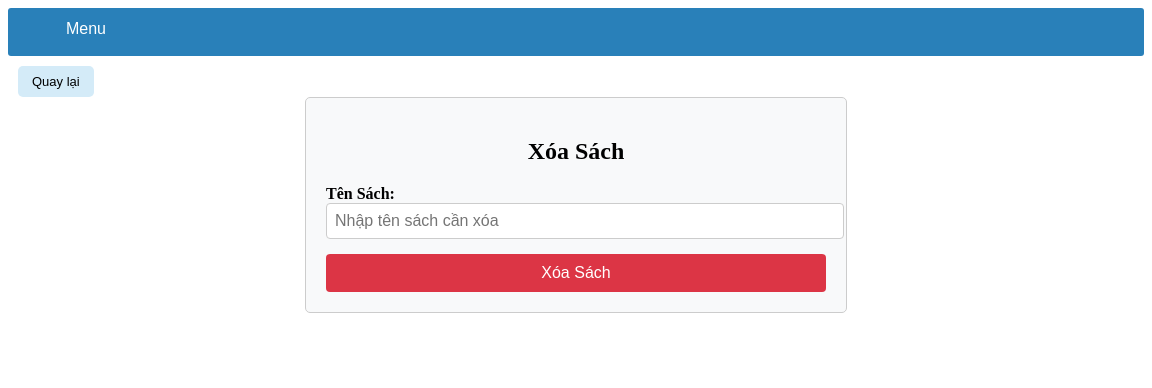
Test: Xóa Sách › TC_006 - Xóa sách không thành công (Tên sách trống)
Click the submit button.
click(576, 273)  # box [326,254,826,292]
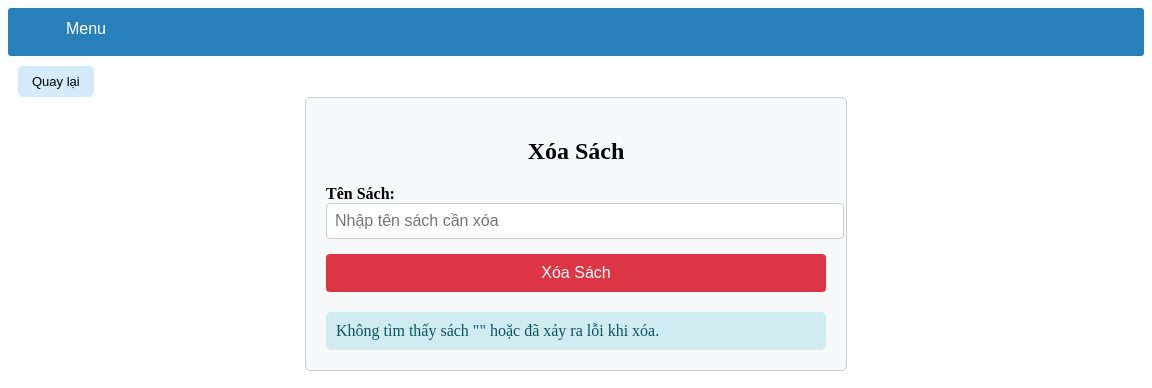
expect the text "Không tìm thấy sách" is shown: met, box [336,322,659,339]
